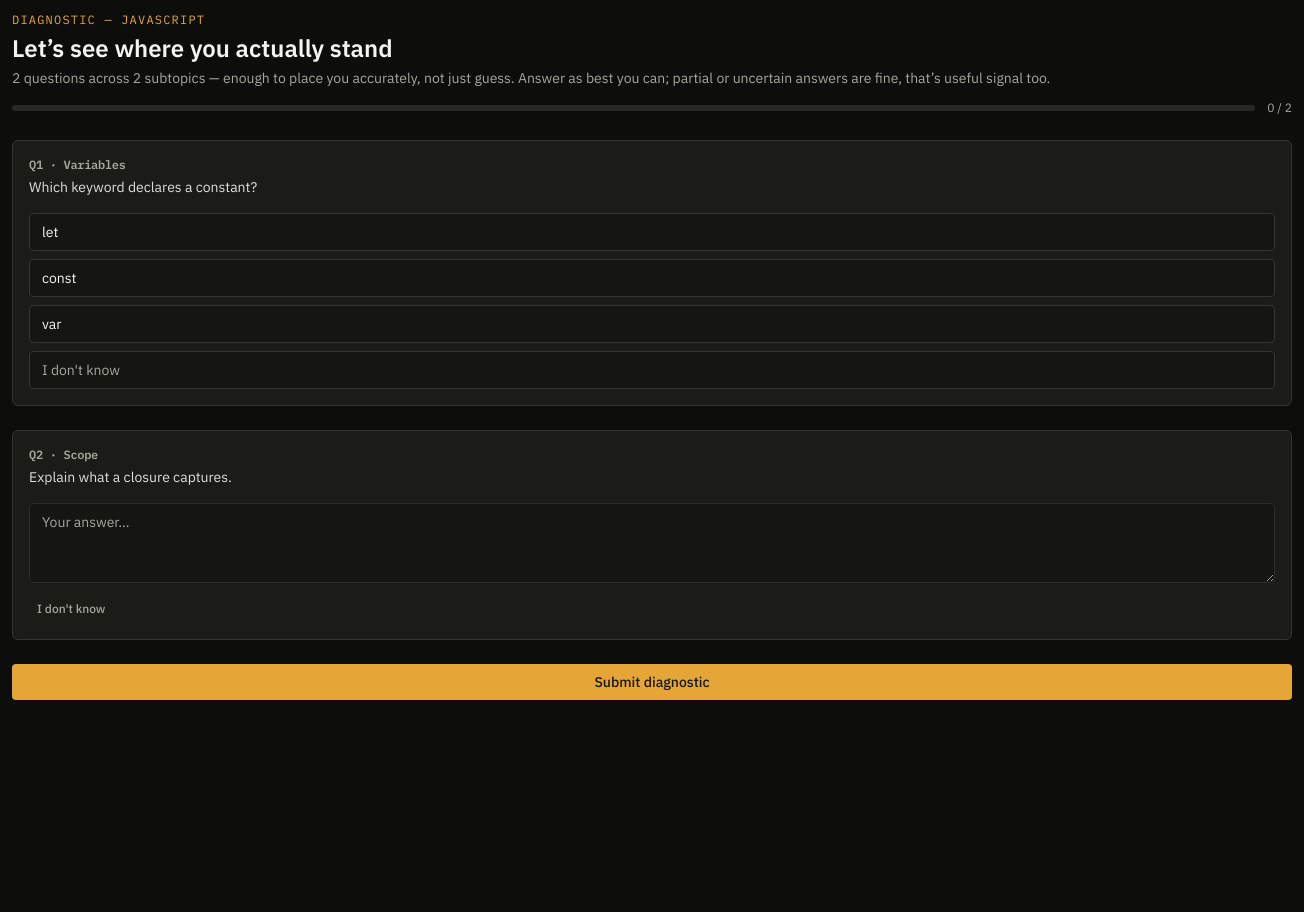
Scenario: DiagnosticQuestions › tracks progress, counting an explicit 'I don't know' as answered
This screenshot has width=1304, height=912.
Expected: the text "0 / 2" is shown, [1267, 100, 1292, 116]
Click the radio button labelled "const" at (59, 278), box [29, 259, 1275, 297]
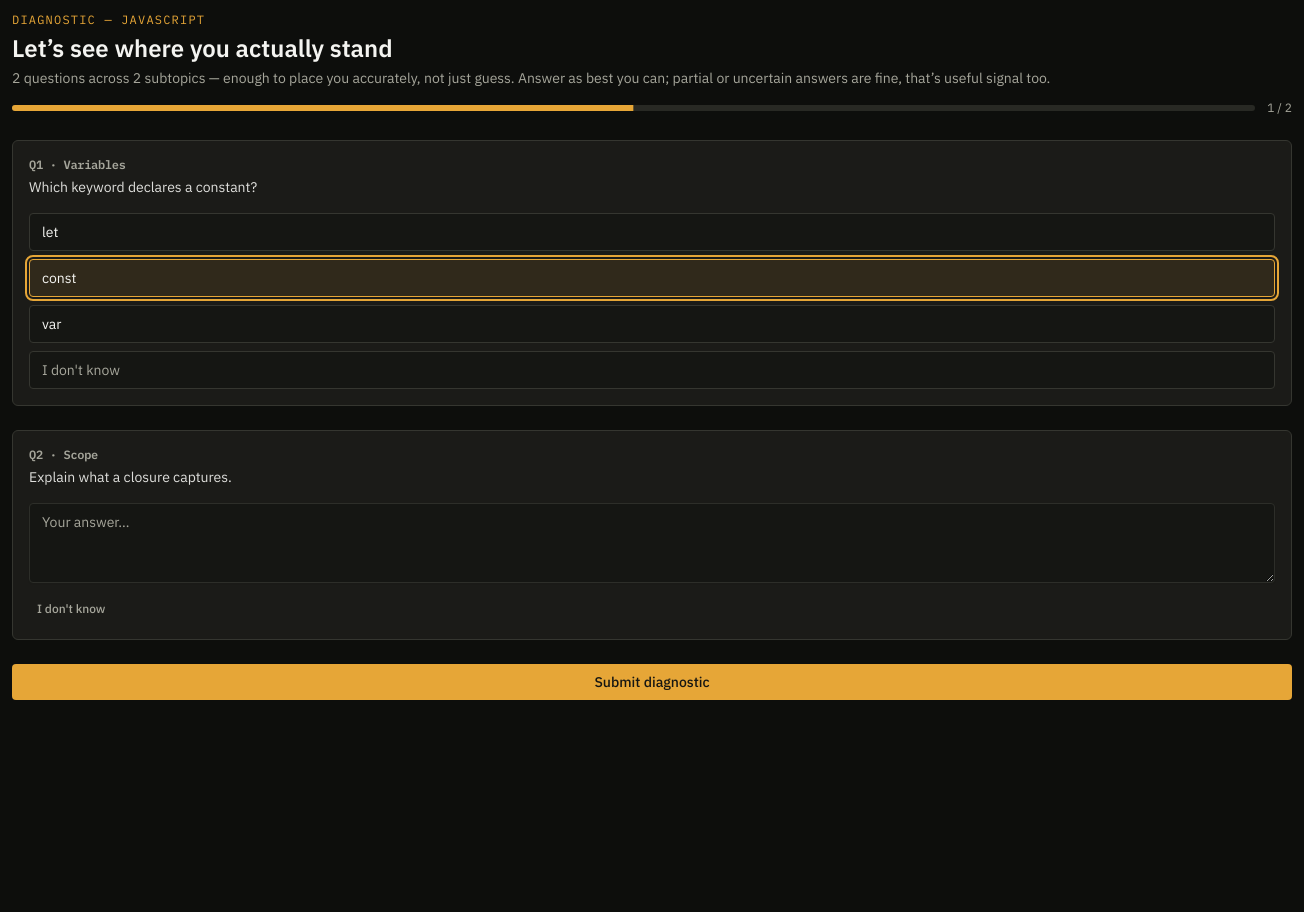
Now the text "1 / 2" is shown, box [1267, 100, 1292, 116]
Click the button "I don't know" at (71, 609), box [29, 595, 114, 623]
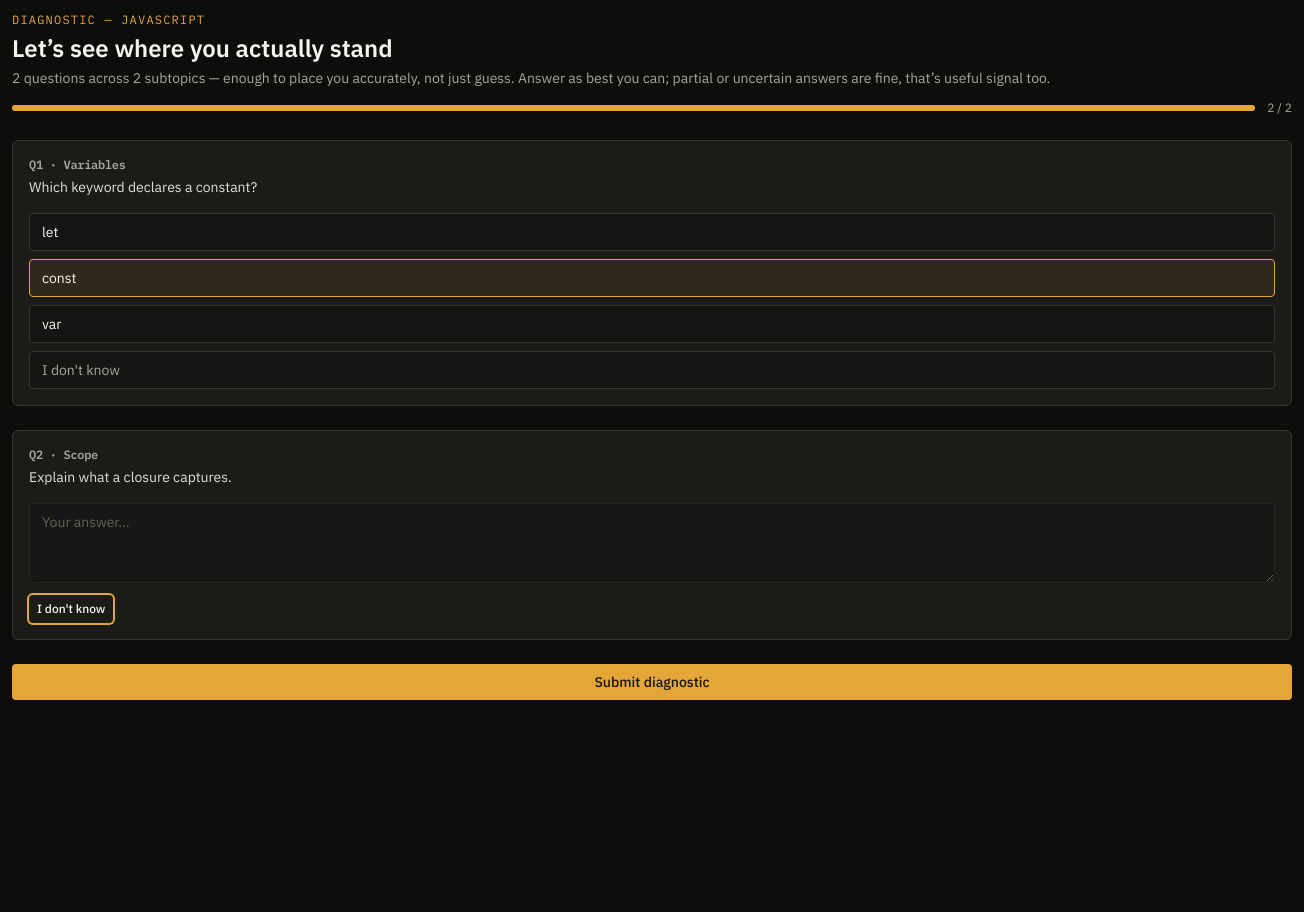
Now the text "2 / 2" is shown, box [1267, 100, 1292, 116]
